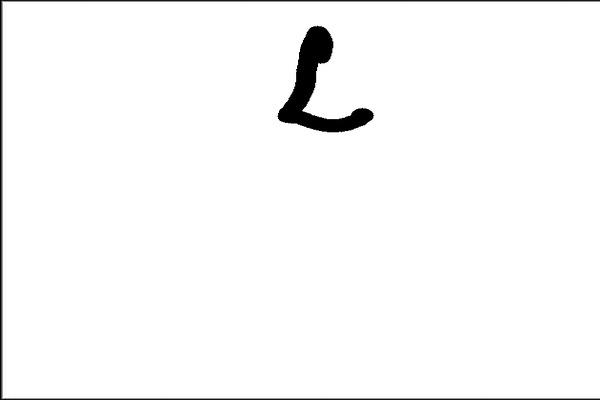L: (269, 20, 379, 139)
